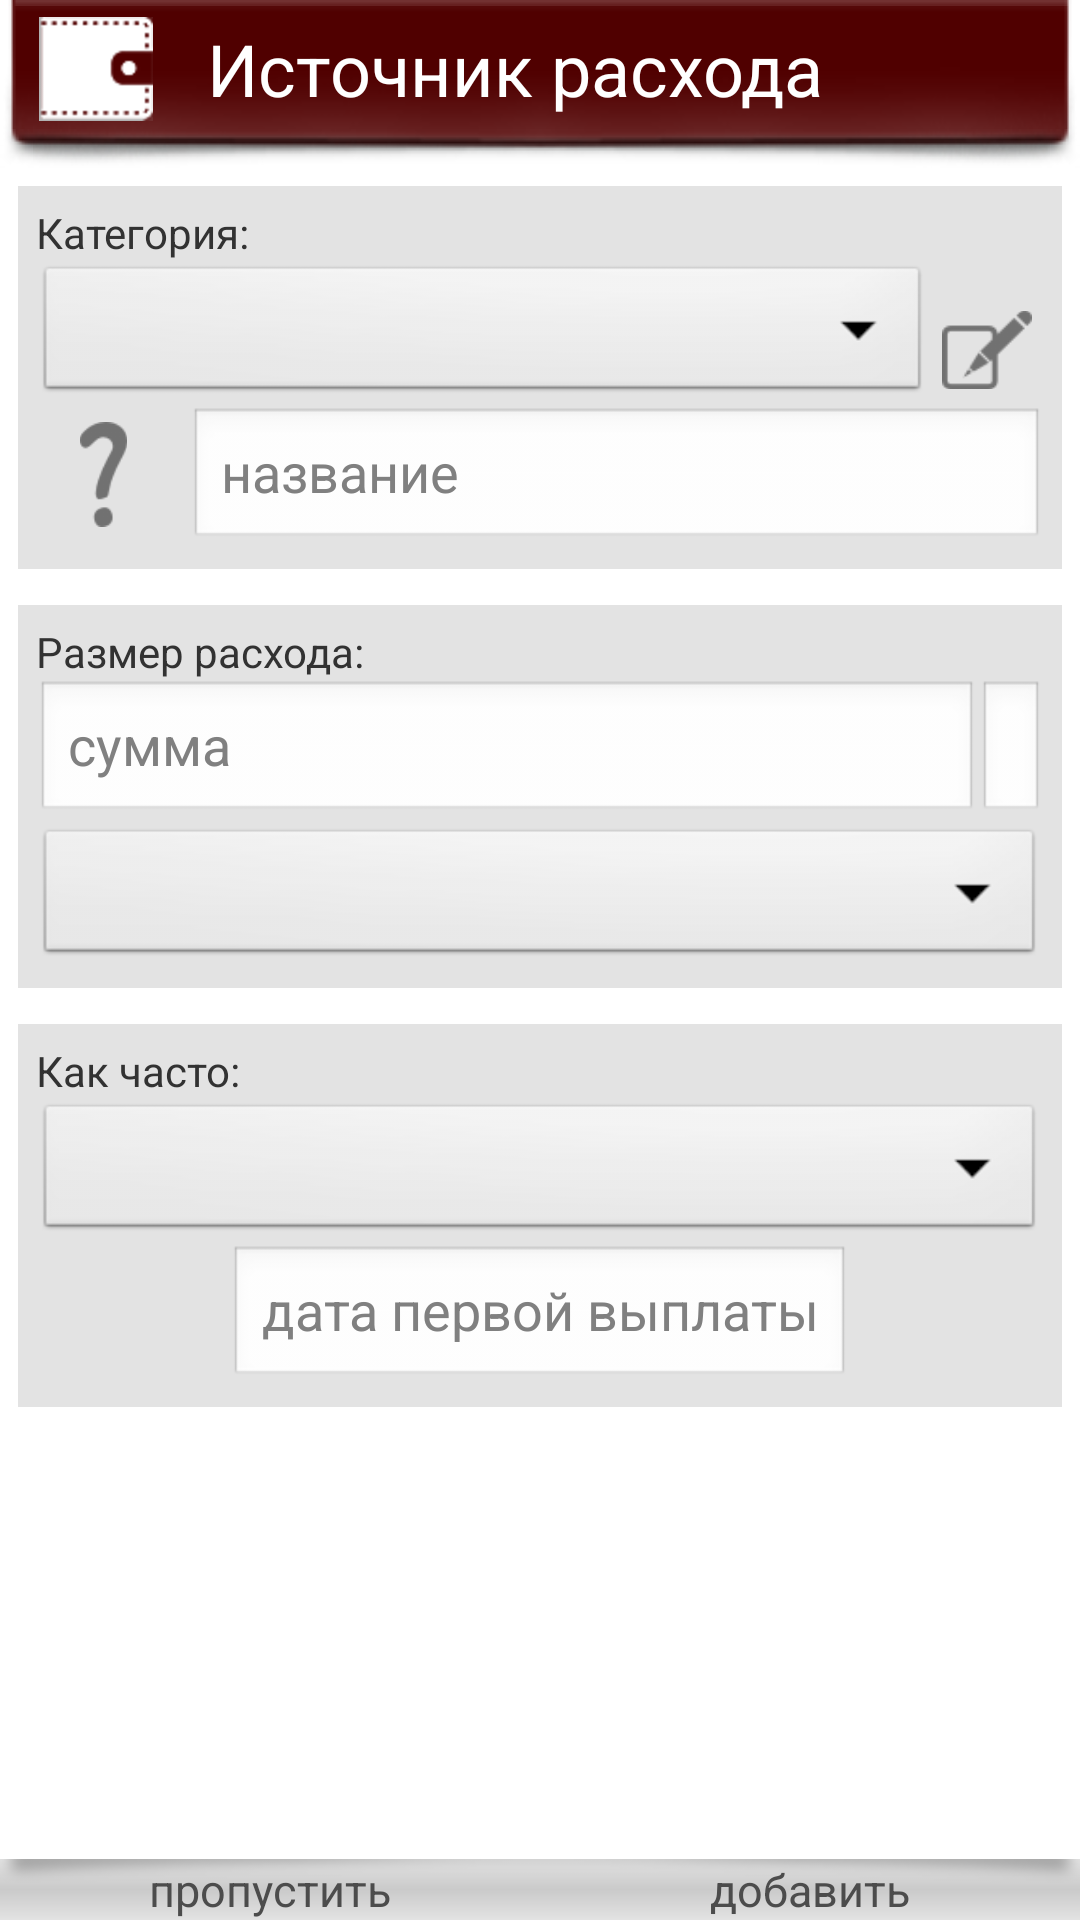

Where to tap for icons on this 1080×1920 app screen, as (x,y):
edit: (987,350)
wallet bw: (96,69)
